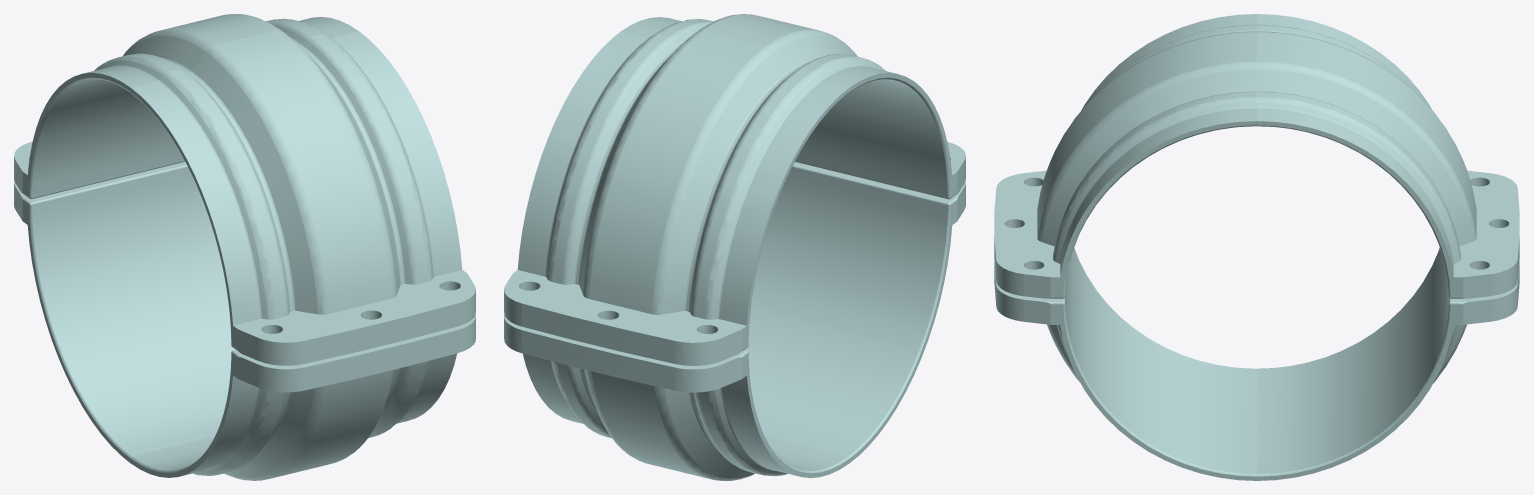
The picture shows the model from 3 angles, left to right: view 1: azimuth 30°, elevation 25°; view 2: azimuth 150°, elevation 25°; view 3: azimuth 270°, elevation 25°; orthographic projection. The views are drawn at different scales.
Bounding box in the file's own units: 135 × 236 × 280.
